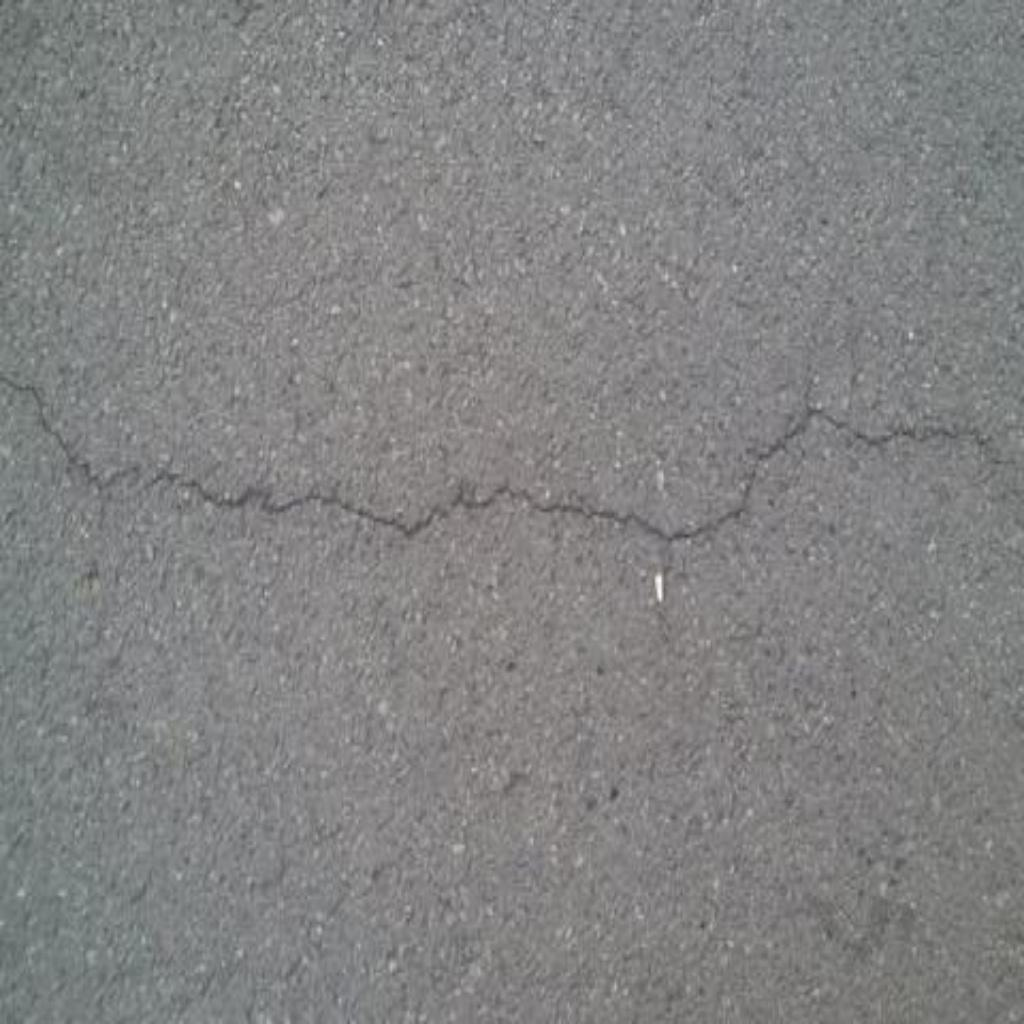Crack: (1, 373, 1024, 544)
